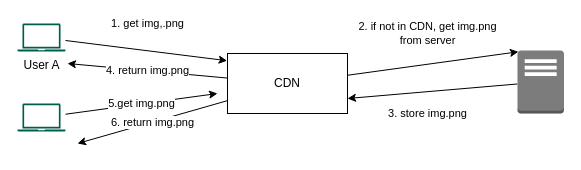
The diagram is 581 pixels wide and 170 high, and some of its shapes have lost their labels. The box of each missing label's shape, as (x1, y1, x2, y2) in pixels:
Server: (516, 50, 564, 114)
User B: (17, 103, 65, 131)
